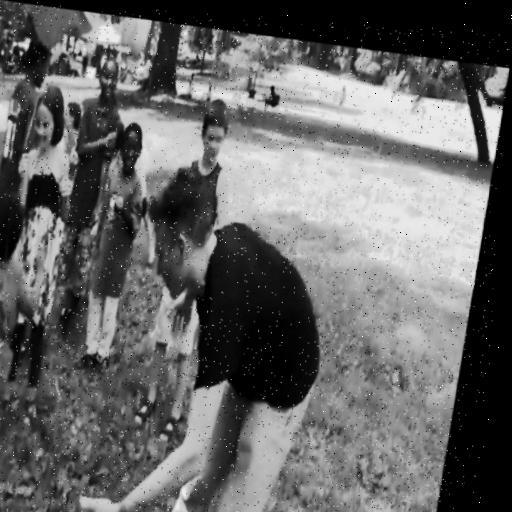balloon: (20, 3, 74, 50), (121, 15, 140, 45), (130, 26, 149, 55)
